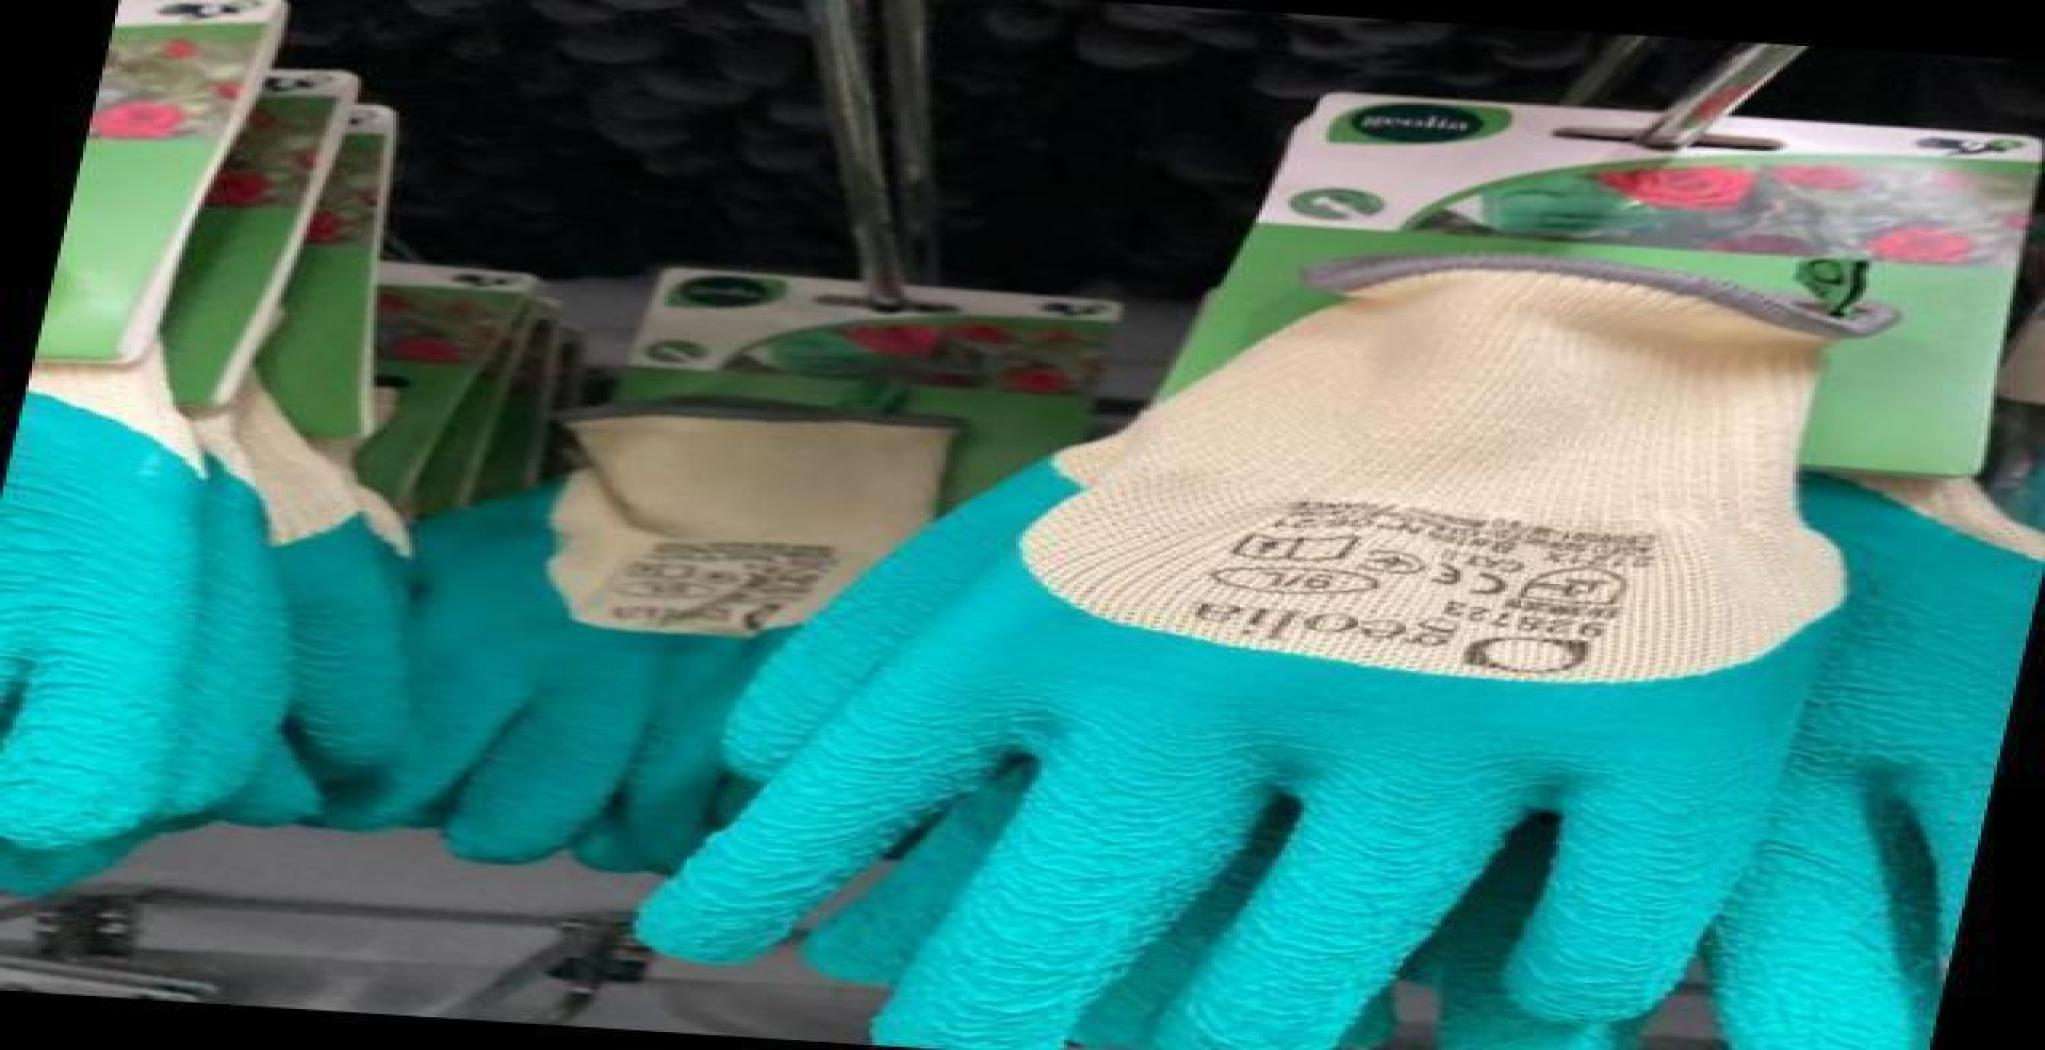gloved: (1009, 224, 1871, 1037)
